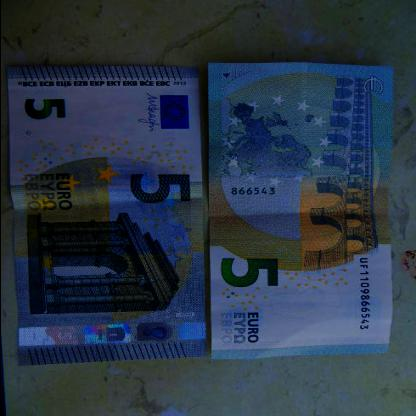euro_banknote: (155, 117, 416, 303)
